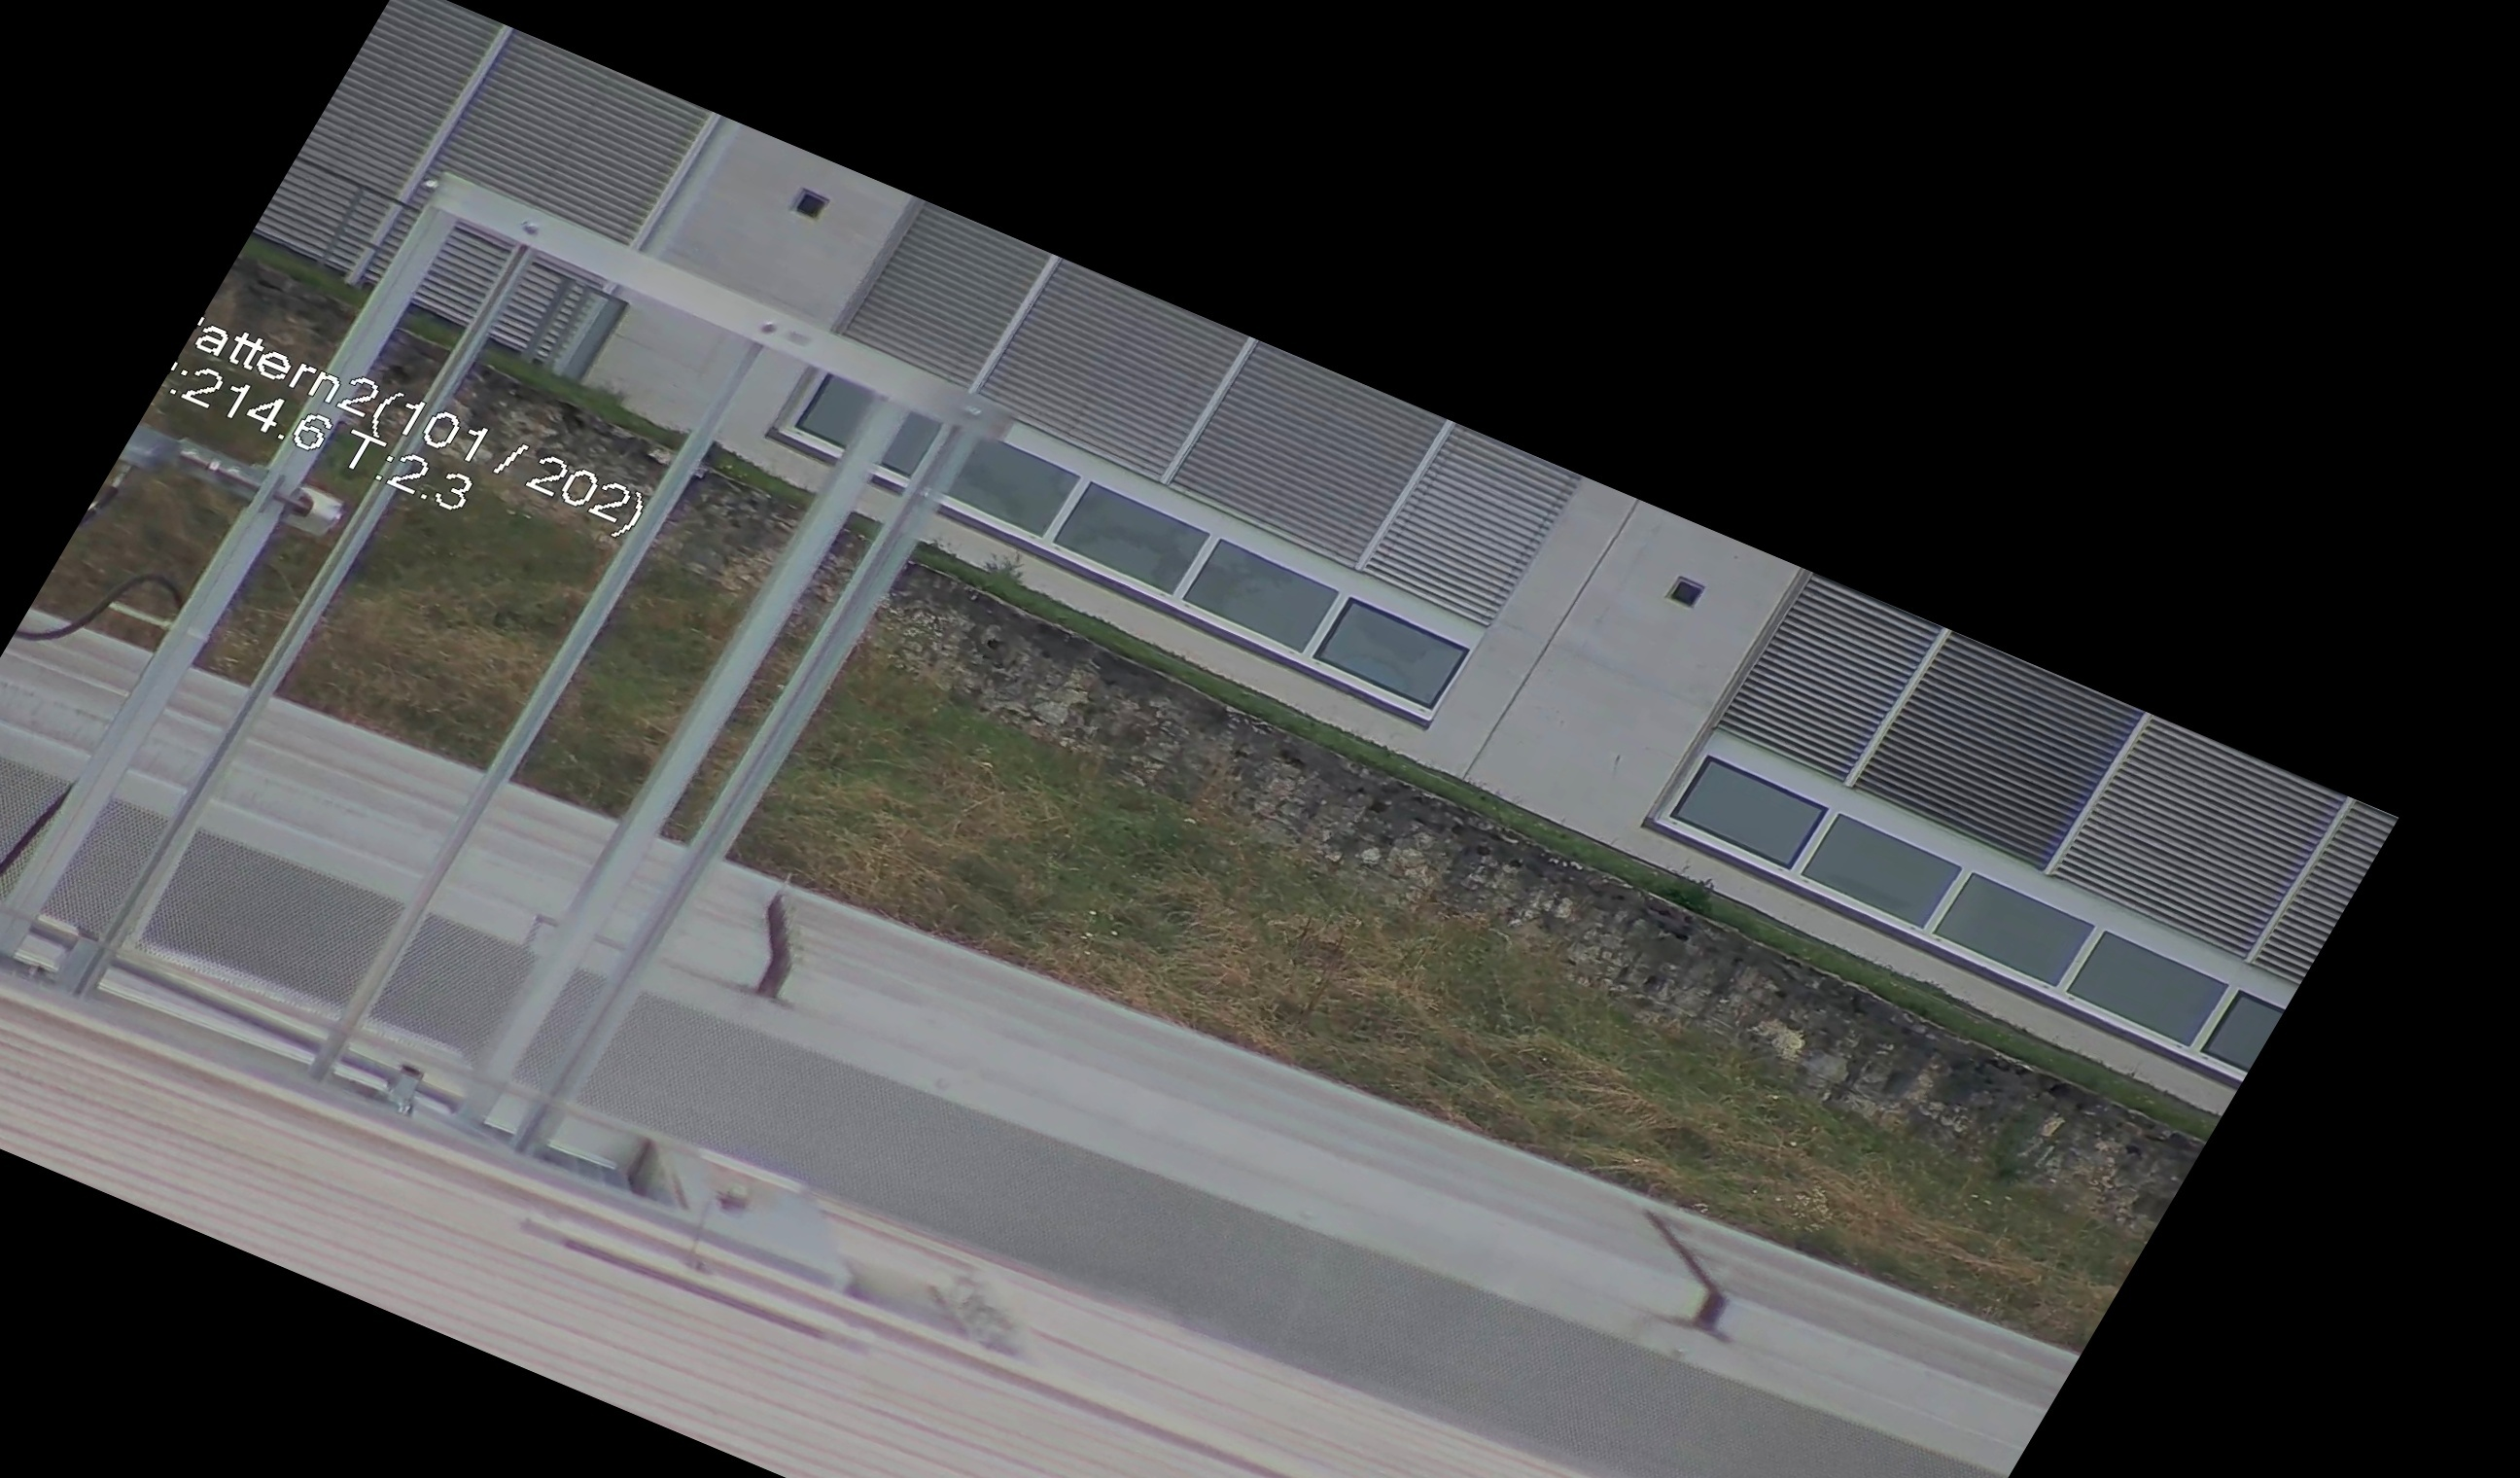Other: (695, 867, 851, 1019)
